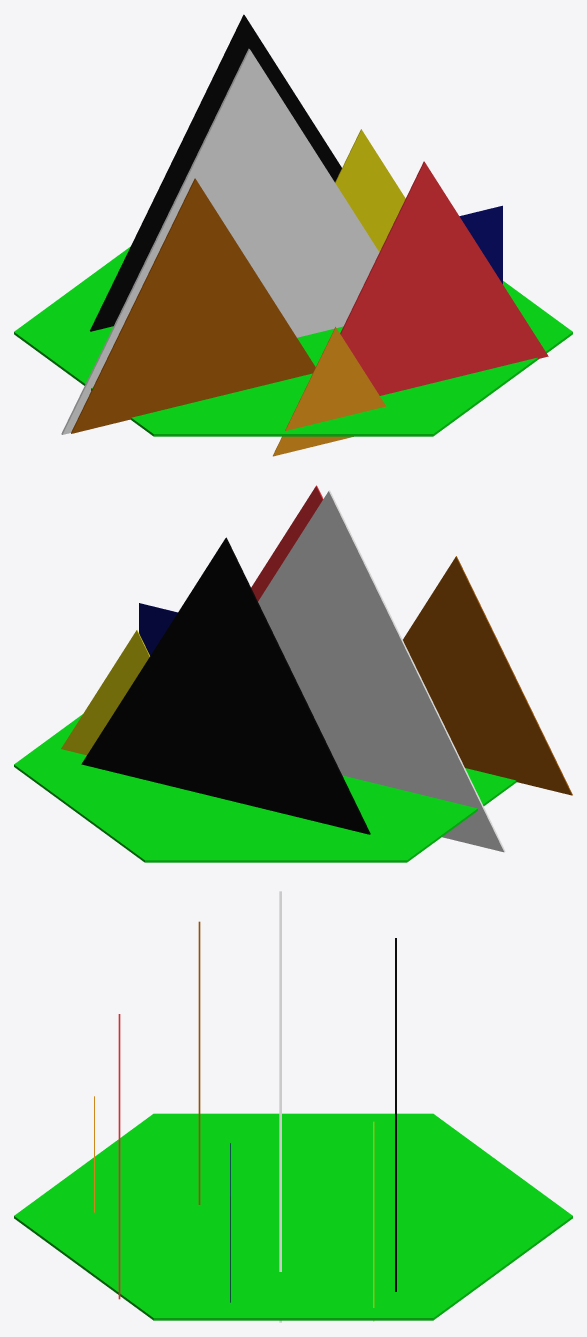
File: Figuras03.glb
3 views of the same model, one above another, from view 1: azimuth 30°, elevation 25°; view 2: azimuth 150°, elevation 25°; view 3: azimuth 270°, elevation 25° (orthographic). The views are drawn at different scales.
Parts seen in each view (by area): view 1: Cylinder.061, Cylinder.059, Cylinder.058, Cylinder.006, Cylinder.062, Cylinder.056, Cylinder.057, Cuadrado; view 2: Cylinder.062, Cylinder.061, Cylinder.006, Cylinder.059, Cylinder.057, Cylinder.058, Cuadrado; view 3: Cylinder.006, Cylinder.061, Cylinder.058, Cylinder.059, Cylinder.062.
Part boxes in pixels (bbox=[...]): Cylinder.061: bbox=[61, 48, 379, 434]; Cylinder.059: bbox=[71, 178, 315, 433]; Cylinder.058: bbox=[340, 161, 548, 395]; Cylinder.006: bbox=[14, 246, 572, 436]; Cylinder.062: bbox=[90, 14, 341, 331]; Cylinder.056: bbox=[273, 327, 386, 456]; Cylinder.057: bbox=[335, 129, 405, 251]; Cuadrado: bbox=[459, 205, 502, 283]; Cylinder.062: bbox=[81, 537, 370, 834]; Cylinder.061: bbox=[258, 490, 505, 852]; Cylinder.006: bbox=[14, 714, 516, 862]; Cylinder.059: bbox=[403, 556, 572, 795]; Cylinder.057: bbox=[61, 630, 149, 755]; Cylinder.058: bbox=[251, 485, 323, 601]; Cuadrado: bbox=[139, 603, 177, 655]; Cylinder.006: bbox=[14, 1113, 572, 1320]; Cylinder.061: bbox=[279, 891, 281, 1322]; Cylinder.058: bbox=[118, 1014, 120, 1299]; Cylinder.059: bbox=[198, 921, 200, 1204]; Cylinder.062: bbox=[395, 938, 396, 1291].
Size of the model in its own units: 6.59 by 4.47 by 6.66.
